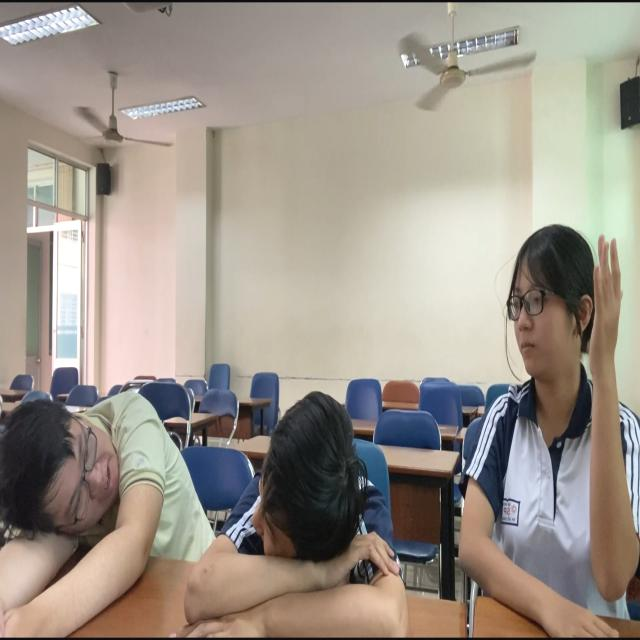raise_hand: (444, 216, 640, 640)
sleep: (187, 386, 416, 640), (1, 355, 191, 622)
